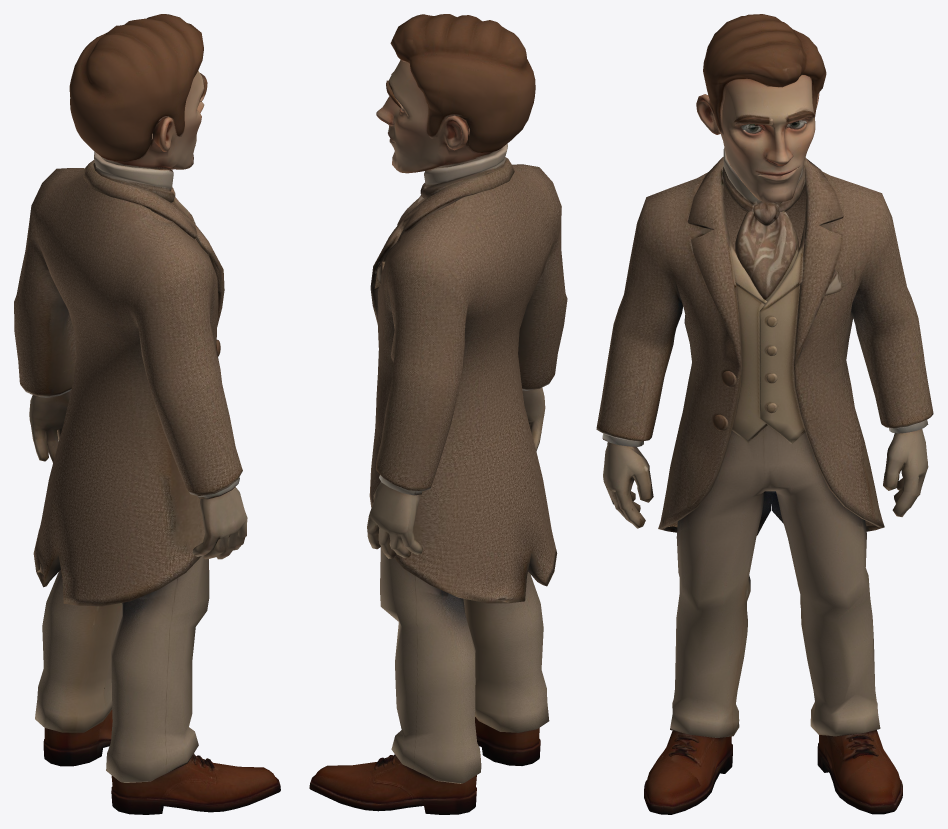
Rendered from HenryModelV4.fbx.
The picture shows the model from 3 angles, left to right: view 1: azimuth 30°, elevation 25°; view 2: azimuth 150°, elevation 25°; view 3: azimuth 270°, elevation 25°; orthographic projection.
Parts seen in each view (by area): view 1: tripo_node_79277b00; view 2: tripo_node_79277b00; view 3: tripo_node_79277b00.
Boxes of the visible parts, <box> form: tripo_node_79277b00: <box>14,14,280,814</box>; tripo_node_79277b00: <box>309,14,567,814</box>; tripo_node_79277b00: <box>596,14,933,814</box>.
Size of the model in its own units: 0.6378 by 0.3768 by 1.57.
Materials: 1 (1 with a texture image).
